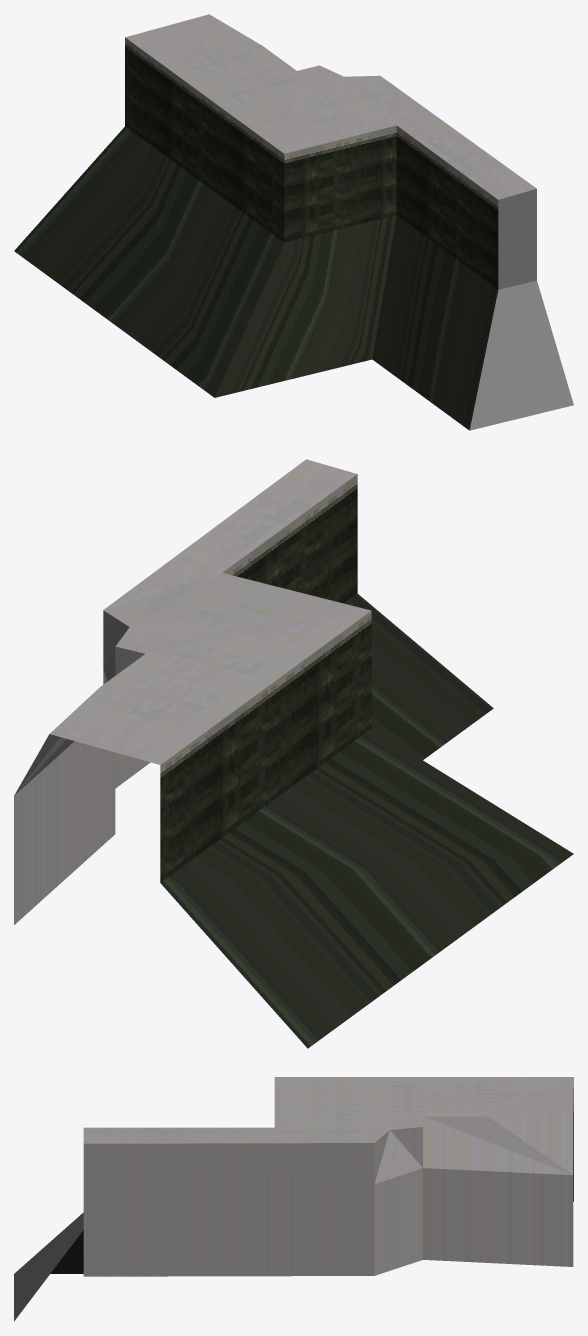
Rendered from lodry_ncoast1_sfe.obj.
3 renders of one model, top to bottom at view 1: azimuth 30°, elevation 25°; view 2: azimuth 150°, elevation 25°; view 3: azimuth 270°, elevation 25°, orthographic. The views are drawn at different scales.
Parts seen in each view (by area): view 1: LODry_ncoast1_sfe; view 2: LODry_ncoast1_sfe; view 3: LODry_ncoast1_sfe.
Boxes of the visible parts, <box> form: LODry_ncoast1_sfe: <box>14,14,573,430</box>; LODry_ncoast1_sfe: <box>14,459,573,1048</box>; LODry_ncoast1_sfe: <box>14,1077,573,1321</box>.
Bounding box in the file's own units: 111 × 76.5 × 218.
Materials: 3 (2 with a texture image).
